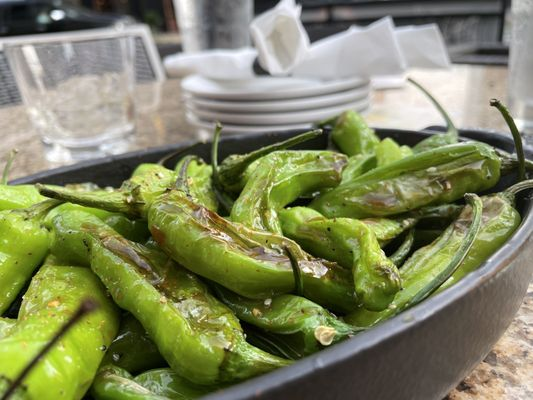pizza: (3, 20, 165, 157)
sushi: (13, 67, 533, 399), (180, 69, 372, 147)
